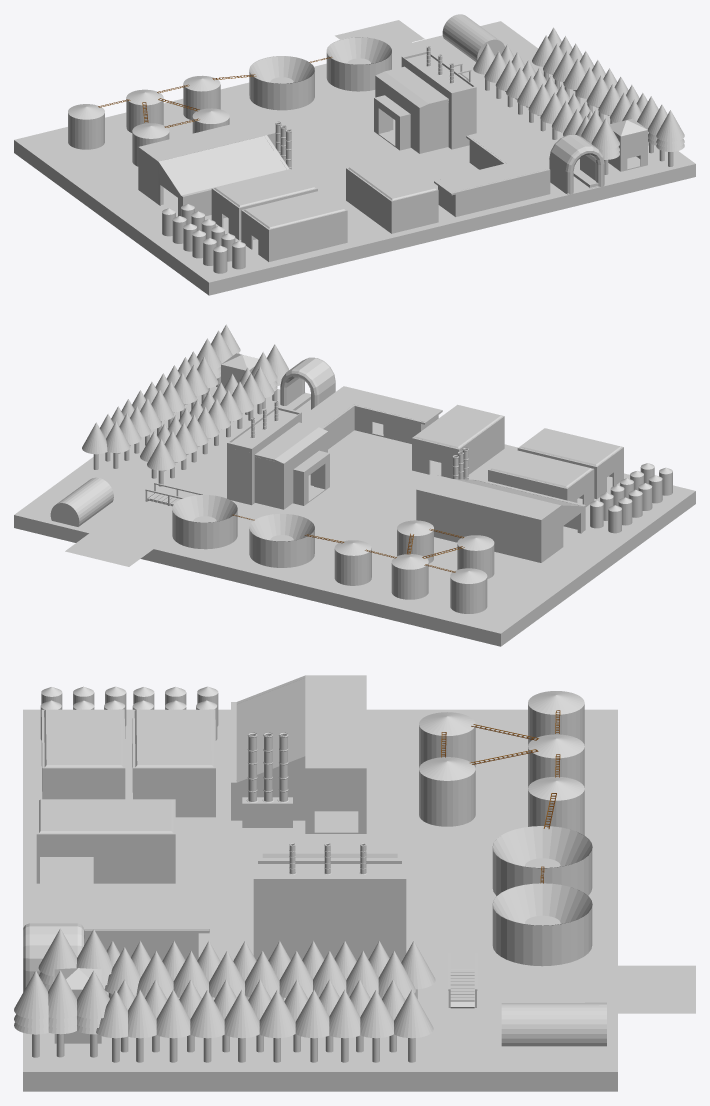
File: PlantSite.fbx
3 views of the same model, one above another, from view 1: azimuth 30°, elevation 25°; view 2: azimuth 150°, elevation 25°; view 3: azimuth 270°, elevation 25° (orthographic). The views are drawn at different scales.
Visible parts, largest first — view 1: Plane, Torus.001, Cube.001, Cube.010, Cube.004, Cube.003, Cube.005, Cylinder.001, Plane.001, Torus.026, Cylinder.015, Cylinder.021 (+19 smaller); view 2: Plane, Torus.001, Cube.001, Cube.010, Cube.003, Cube.005, Plane.001, Cylinder.001, Cube.004, Torus.026, Cylinder.021, Cylinder.018 (+15 smaller); view 3: Plane, Torus.001, Cube.001, Cube.003, Cube.010, Cube.005, Cube.004, Plane.001, Cylinder.021, Cylinder.018, Plane.002, Cylinder.003 (+39 smaller).
Part boxes in pixels (bbox=[...]): Plane: bbox=[14, 21, 695, 295]; Torus.001: bbox=[138, 116, 291, 216]; Cube.001: bbox=[374, 46, 476, 153]; Cube.010: bbox=[434, 129, 550, 216]; Cube.004: bbox=[241, 190, 347, 261]; Cube.003: bbox=[346, 156, 438, 233]; Cube.005: bbox=[211, 169, 317, 240]; Cylinder.001: bbox=[162, 204, 245, 273]; Plane.001: bbox=[391, 42, 605, 193]; Torus.026: bbox=[549, 134, 604, 194]; Cylinder.015: bbox=[249, 56, 314, 110]; Cylinder.021: bbox=[442, 14, 505, 62]; Plane: bbox=[14, 386, 695, 646]; Torus.001: bbox=[416, 447, 585, 562]; Cube.001: bbox=[227, 400, 329, 509]; Cube.010: bbox=[302, 386, 442, 449]; Cube.003: bbox=[412, 404, 504, 478]; Cube.005: bbox=[488, 450, 594, 506]; Plane.001: bbox=[104, 399, 310, 544]; Cylinder.001: bbox=[590, 463, 672, 533]; Cube.004: bbox=[517, 428, 623, 499]; Torus.026: bbox=[280, 357, 335, 409]; Cylinder.021: bbox=[50, 477, 113, 526]; Cylinder.018: bbox=[172, 505, 237, 549]; Plane: bbox=[23, 709, 617, 1091]; Torus.001: bbox=[231, 675, 366, 833]; Cube.001: bbox=[253, 843, 406, 962]; Cube.003: bbox=[36, 799, 175, 883]; Cube.010: bbox=[40, 857, 209, 960]; Cube.005: bbox=[132, 709, 215, 817]; Cube.004: bbox=[41, 709, 125, 799]; Plane.001: bbox=[134, 975, 616, 1003]; Cylinder.021: bbox=[501, 1002, 606, 1046]; Cylinder.018: bbox=[492, 890, 592, 966]; Plane.002: bbox=[616, 965, 695, 1013]; Cylinder.003: bbox=[419, 757, 475, 826].
Bounding box in the file's own units: 3920 × 664 × 3120.
